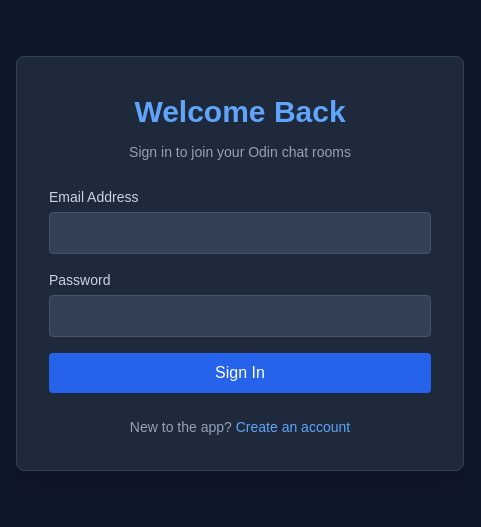
Test: LoginPage Component - Integration Suite › should display explicit application runtime error messages on a 401 response
Type "wrong@odin.com" into the field labelled "Email Address" at (240, 232), box [49,212,431,254]
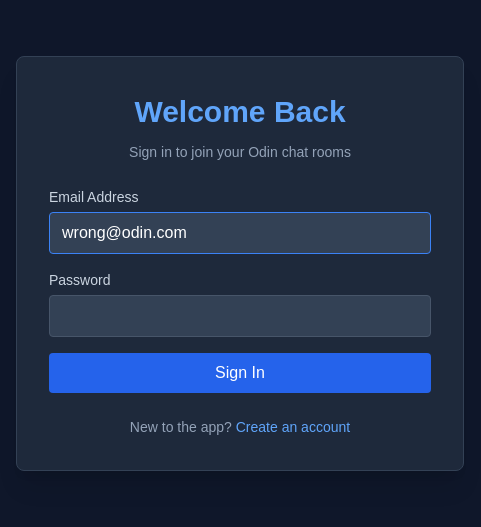
Type "wrongpass" into the password field labelled "Password" at (240, 316), box [49,294,431,336]
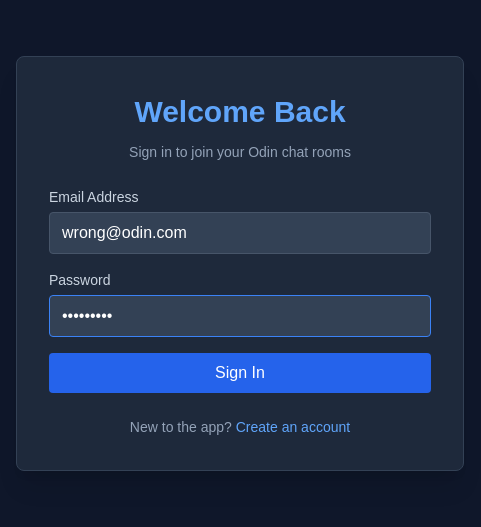
Click the button "Sign In" at (240, 372), box [49,352,431,392]
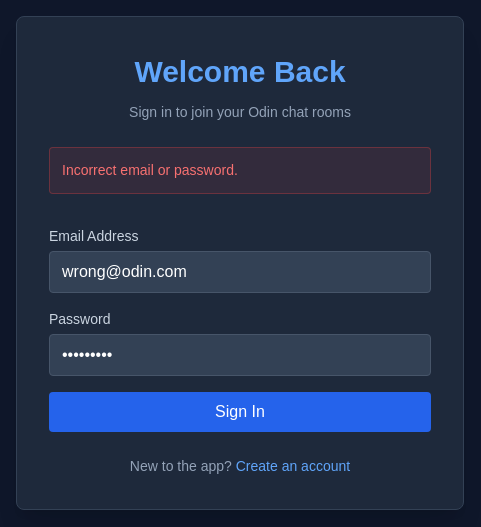
Result: the message reads "Incorrect email or password." at [62,162,238,178]
